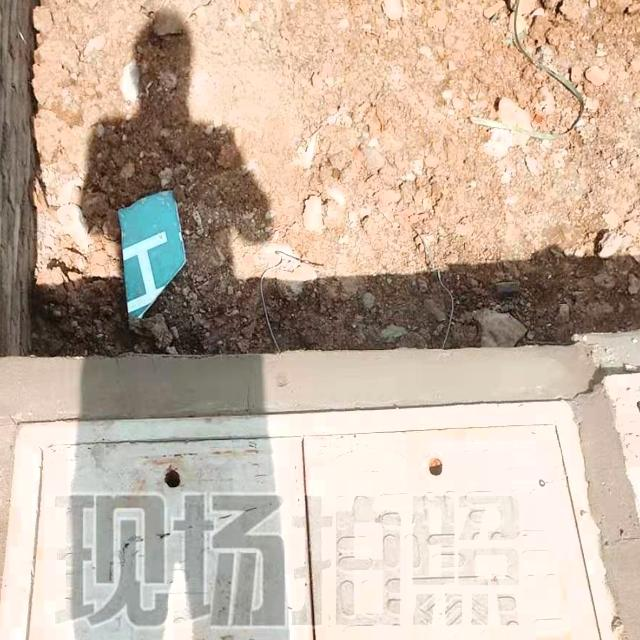good: (0, 392, 640, 640)
